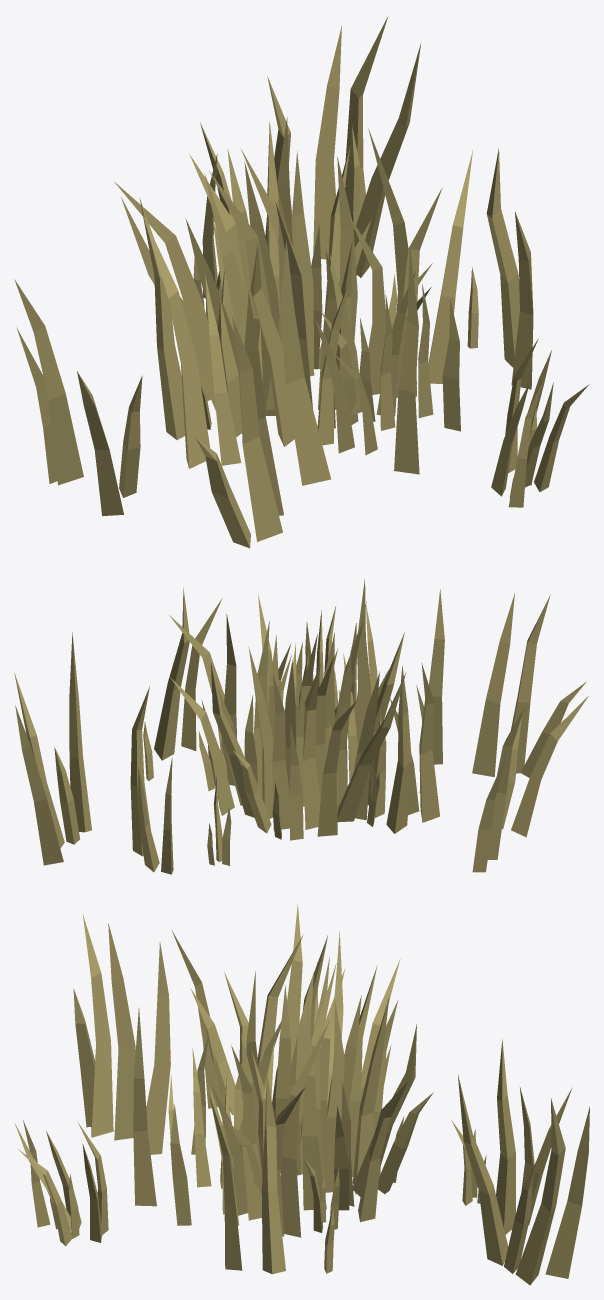
Rendered from grass_yellow.glb.
3 renders of one model, top to bottom at view 1: azimuth 30°, elevation 25°; view 2: azimuth 150°, elevation 25°; view 3: azimuth 270°, elevation 25°, orthographic. The views are drawn at different scales.
Parts seen in each view (by area): view 1: group1744197509, group1681983211, group1697339476, group443349435, group1255547812, group678362861, group908757786, group54891894, group2043014497, group208637188, group2019195407, group1825840008 (+48 smaller); view 2: group343340000, group2043014497, group908757786, group54891894, group1255547812, group612556706, group1697339476, group277299665, group902223660, group1681983211, group46854911, group228620189 (+37 smaller); view 3: group343340000, group1681983211, group1744197509, group54891894, group1661925368, group2043014497, group1255547812, group252032136, group678362861, group1101659140, group619381689, group1072724566 (+44 smaller).
Part boxes in pixels (<box>): group1744197509: <box>279,241,330,485</box>; group1681983211: <box>232,316,282,541</box>; group1697339476: <box>143,215,210,468</box>; group443349435: <box>14,279,83,485</box>; group1255547812: <box>313,25,341,259</box>; group678362861: <box>394,246,419,474</box>; group908757786: <box>139,198,184,439</box>; group54891894: <box>486,148,519,367</box>; group2043014497: <box>354,42,421,277</box>; group208637188: <box>428,150,472,383</box>; group2019195407: <box>250,243,294,446</box>; group1825840008: <box>205,275,241,465</box>; group343340000: <box>472,593,514,777</box>; group2043014497: <box>69,632,91,832</box>; group908757786: <box>386,665,411,833</box>; group54891894: <box>154,587,189,760</box>; group1255547812: <box>15,705,63,865</box>; group612556706: <box>303,664,320,829</box>; group1697339476: <box>419,663,439,822</box>; group277299665: <box>337,672,406,822</box>; group902223660: <box>317,701,356,836</box>; group1681983211: <box>510,595,550,773</box>; group46854911: <box>272,674,289,830</box>; group228620189: <box>511,696,588,837</box>; group343340000: <box>108,923,135,1140</box>; group1681983211: <box>82,914,113,1137</box>; group1744197509: <box>146,942,170,1154</box>; group54891894: <box>261,1072,285,1274</box>; group1661925368: <box>515,1098,565,1285</box>; group2043014497: <box>458,1075,508,1265</box>; group1255547812: <box>545,1106,589,1278</box>; group252032136: <box>281,1020,329,1237</box>; group678362861: <box>133,1007,156,1206</box>; group1101659140: <box>496,1039,515,1234</box>; group619381689: <box>302,1008,326,1210</box>; group1072724566: <box>352,996,389,1194</box>.
Bounding box in the file's own units: 0.5831 × 0.2873 × 0.6368.
